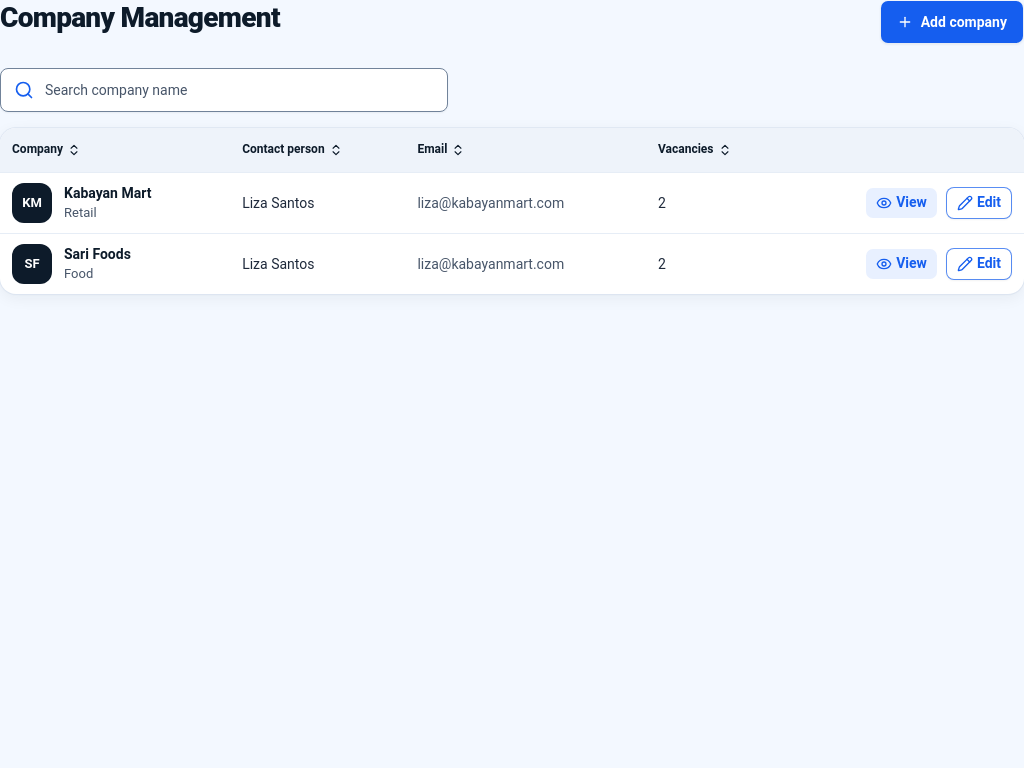
Test case: Company Management › shows required-field errors and keeps the dialog open
Click the button "Add company". click: (952, 22)
box: [880,0,1023,44]
(page scrolled)
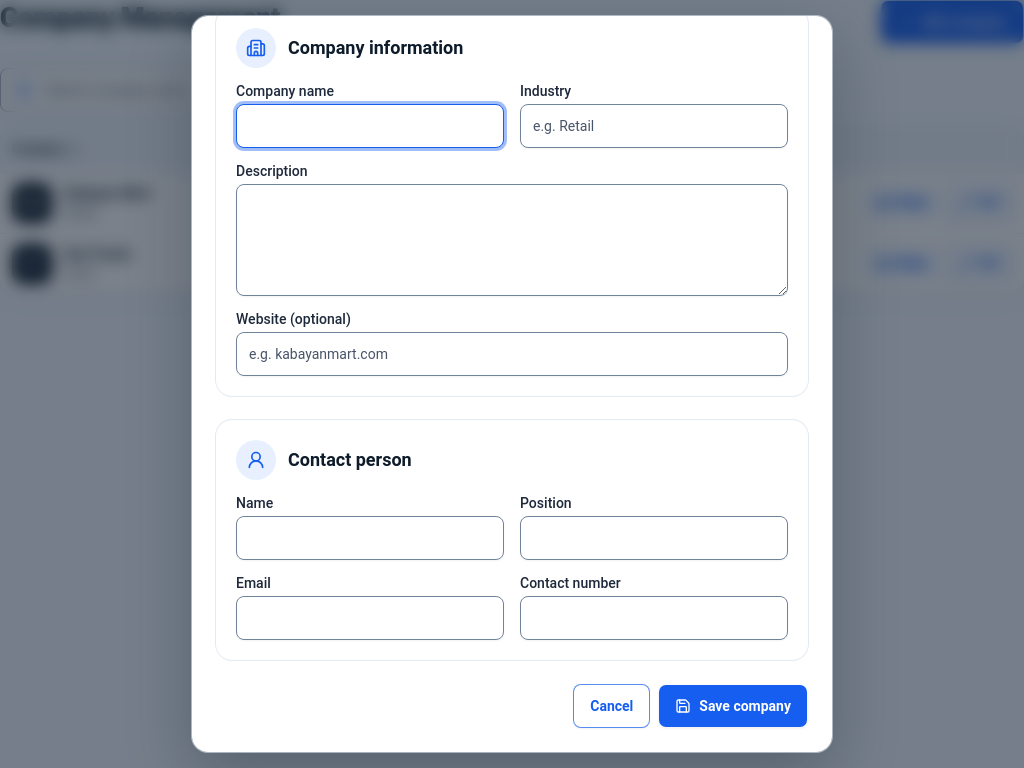
Click the button "Save company". click: (733, 706)
box: [658,684,808,728]
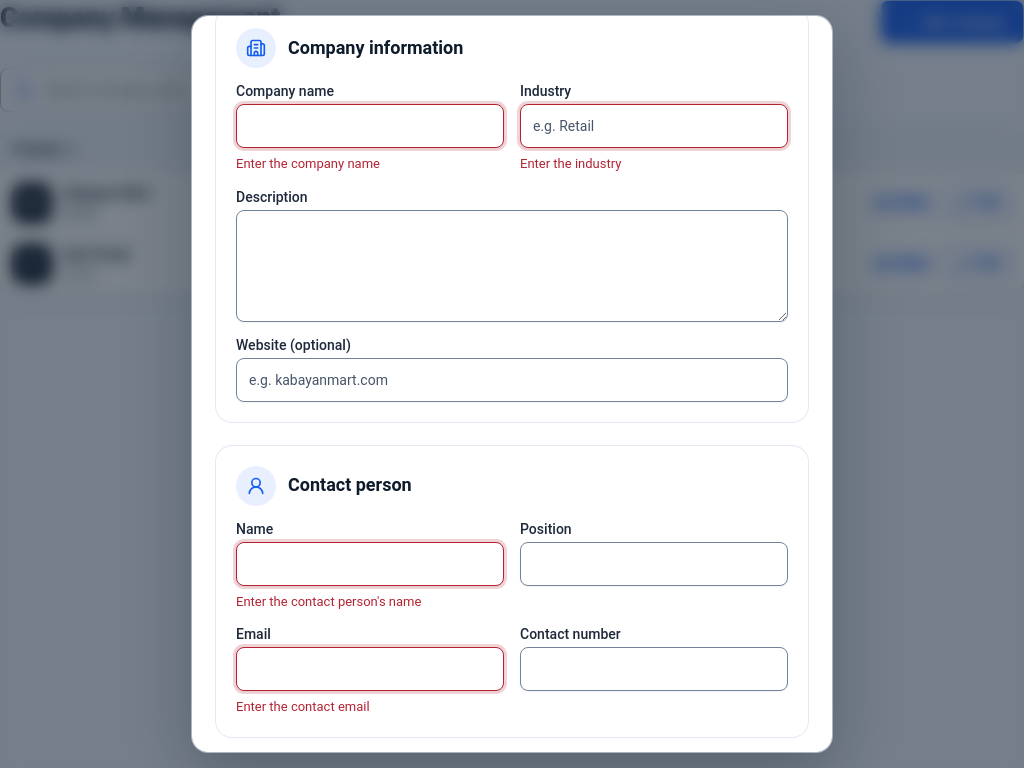
Now the text "Enter the company name" is shown, box [236,156,380,171]
Now the text "Enter the contact email" is shown, box [236,699,370,714]
